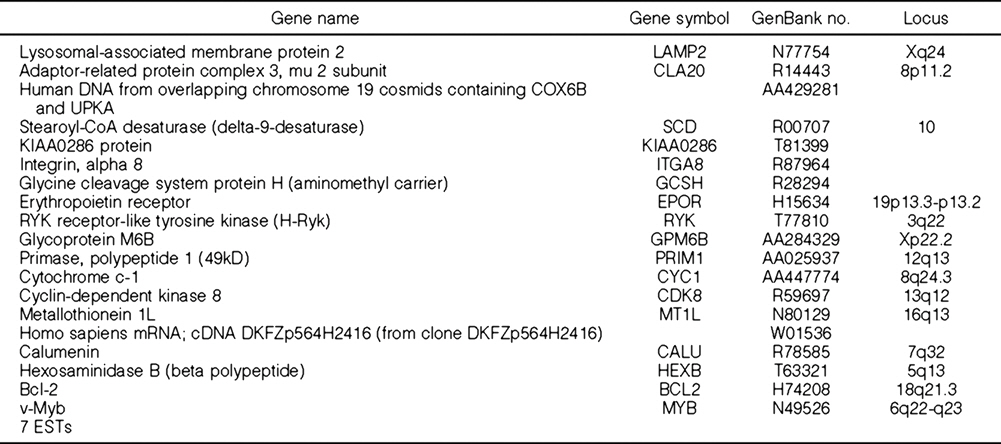table: (1, 1, 1001, 444)
